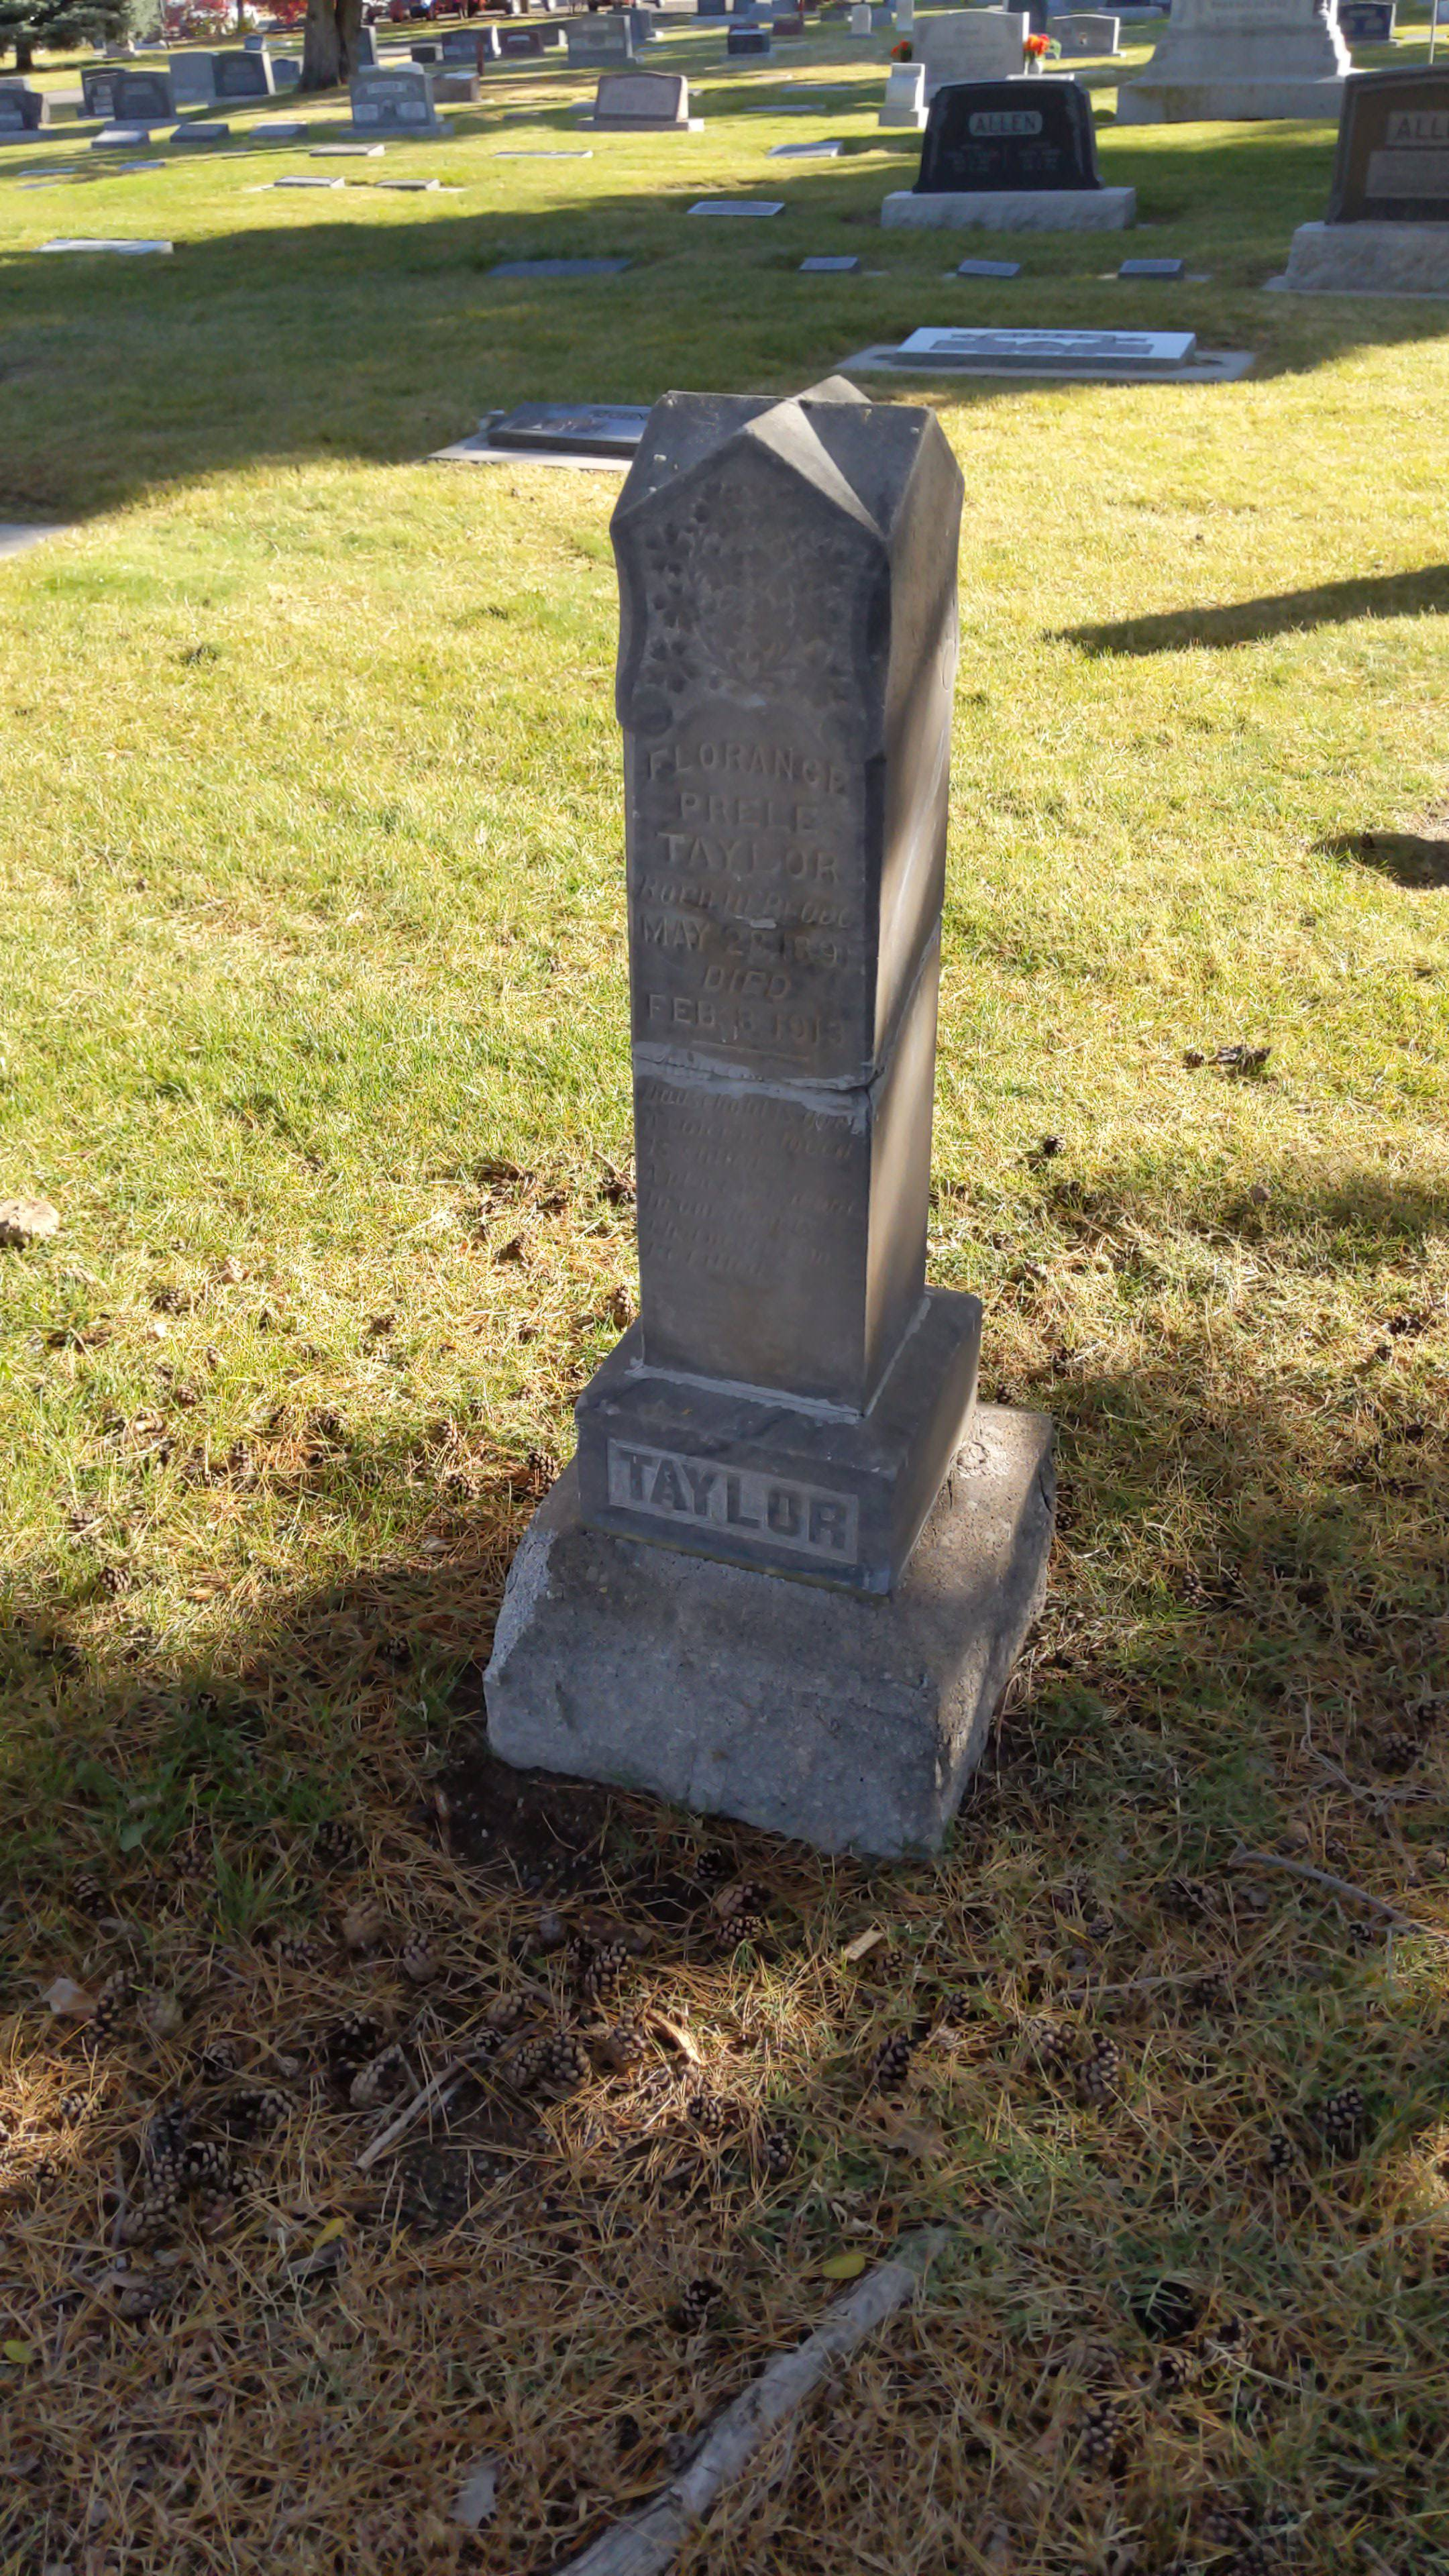obelisk: (580, 387, 991, 1578)
